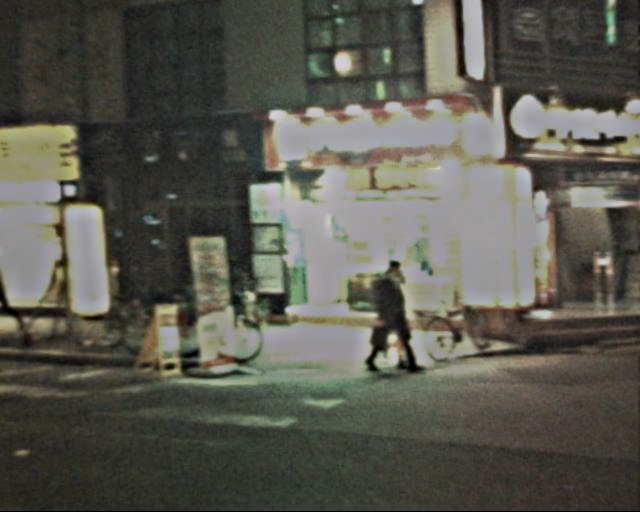person: (357, 256, 422, 385)
